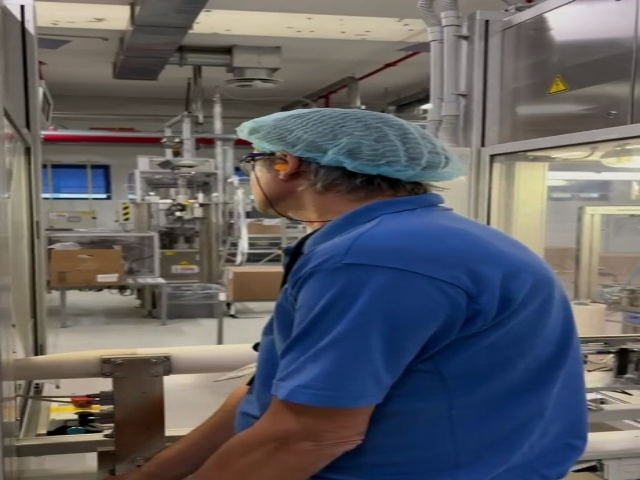Earplug: (270, 153, 302, 179)
Hairnet: (236, 104, 463, 180)
No_Helmet: (237, 106, 463, 178)
No_Vest: (241, 216, 589, 480)
Person: (236, 102, 589, 480)
Safety_Goggles: (236, 149, 279, 176)
